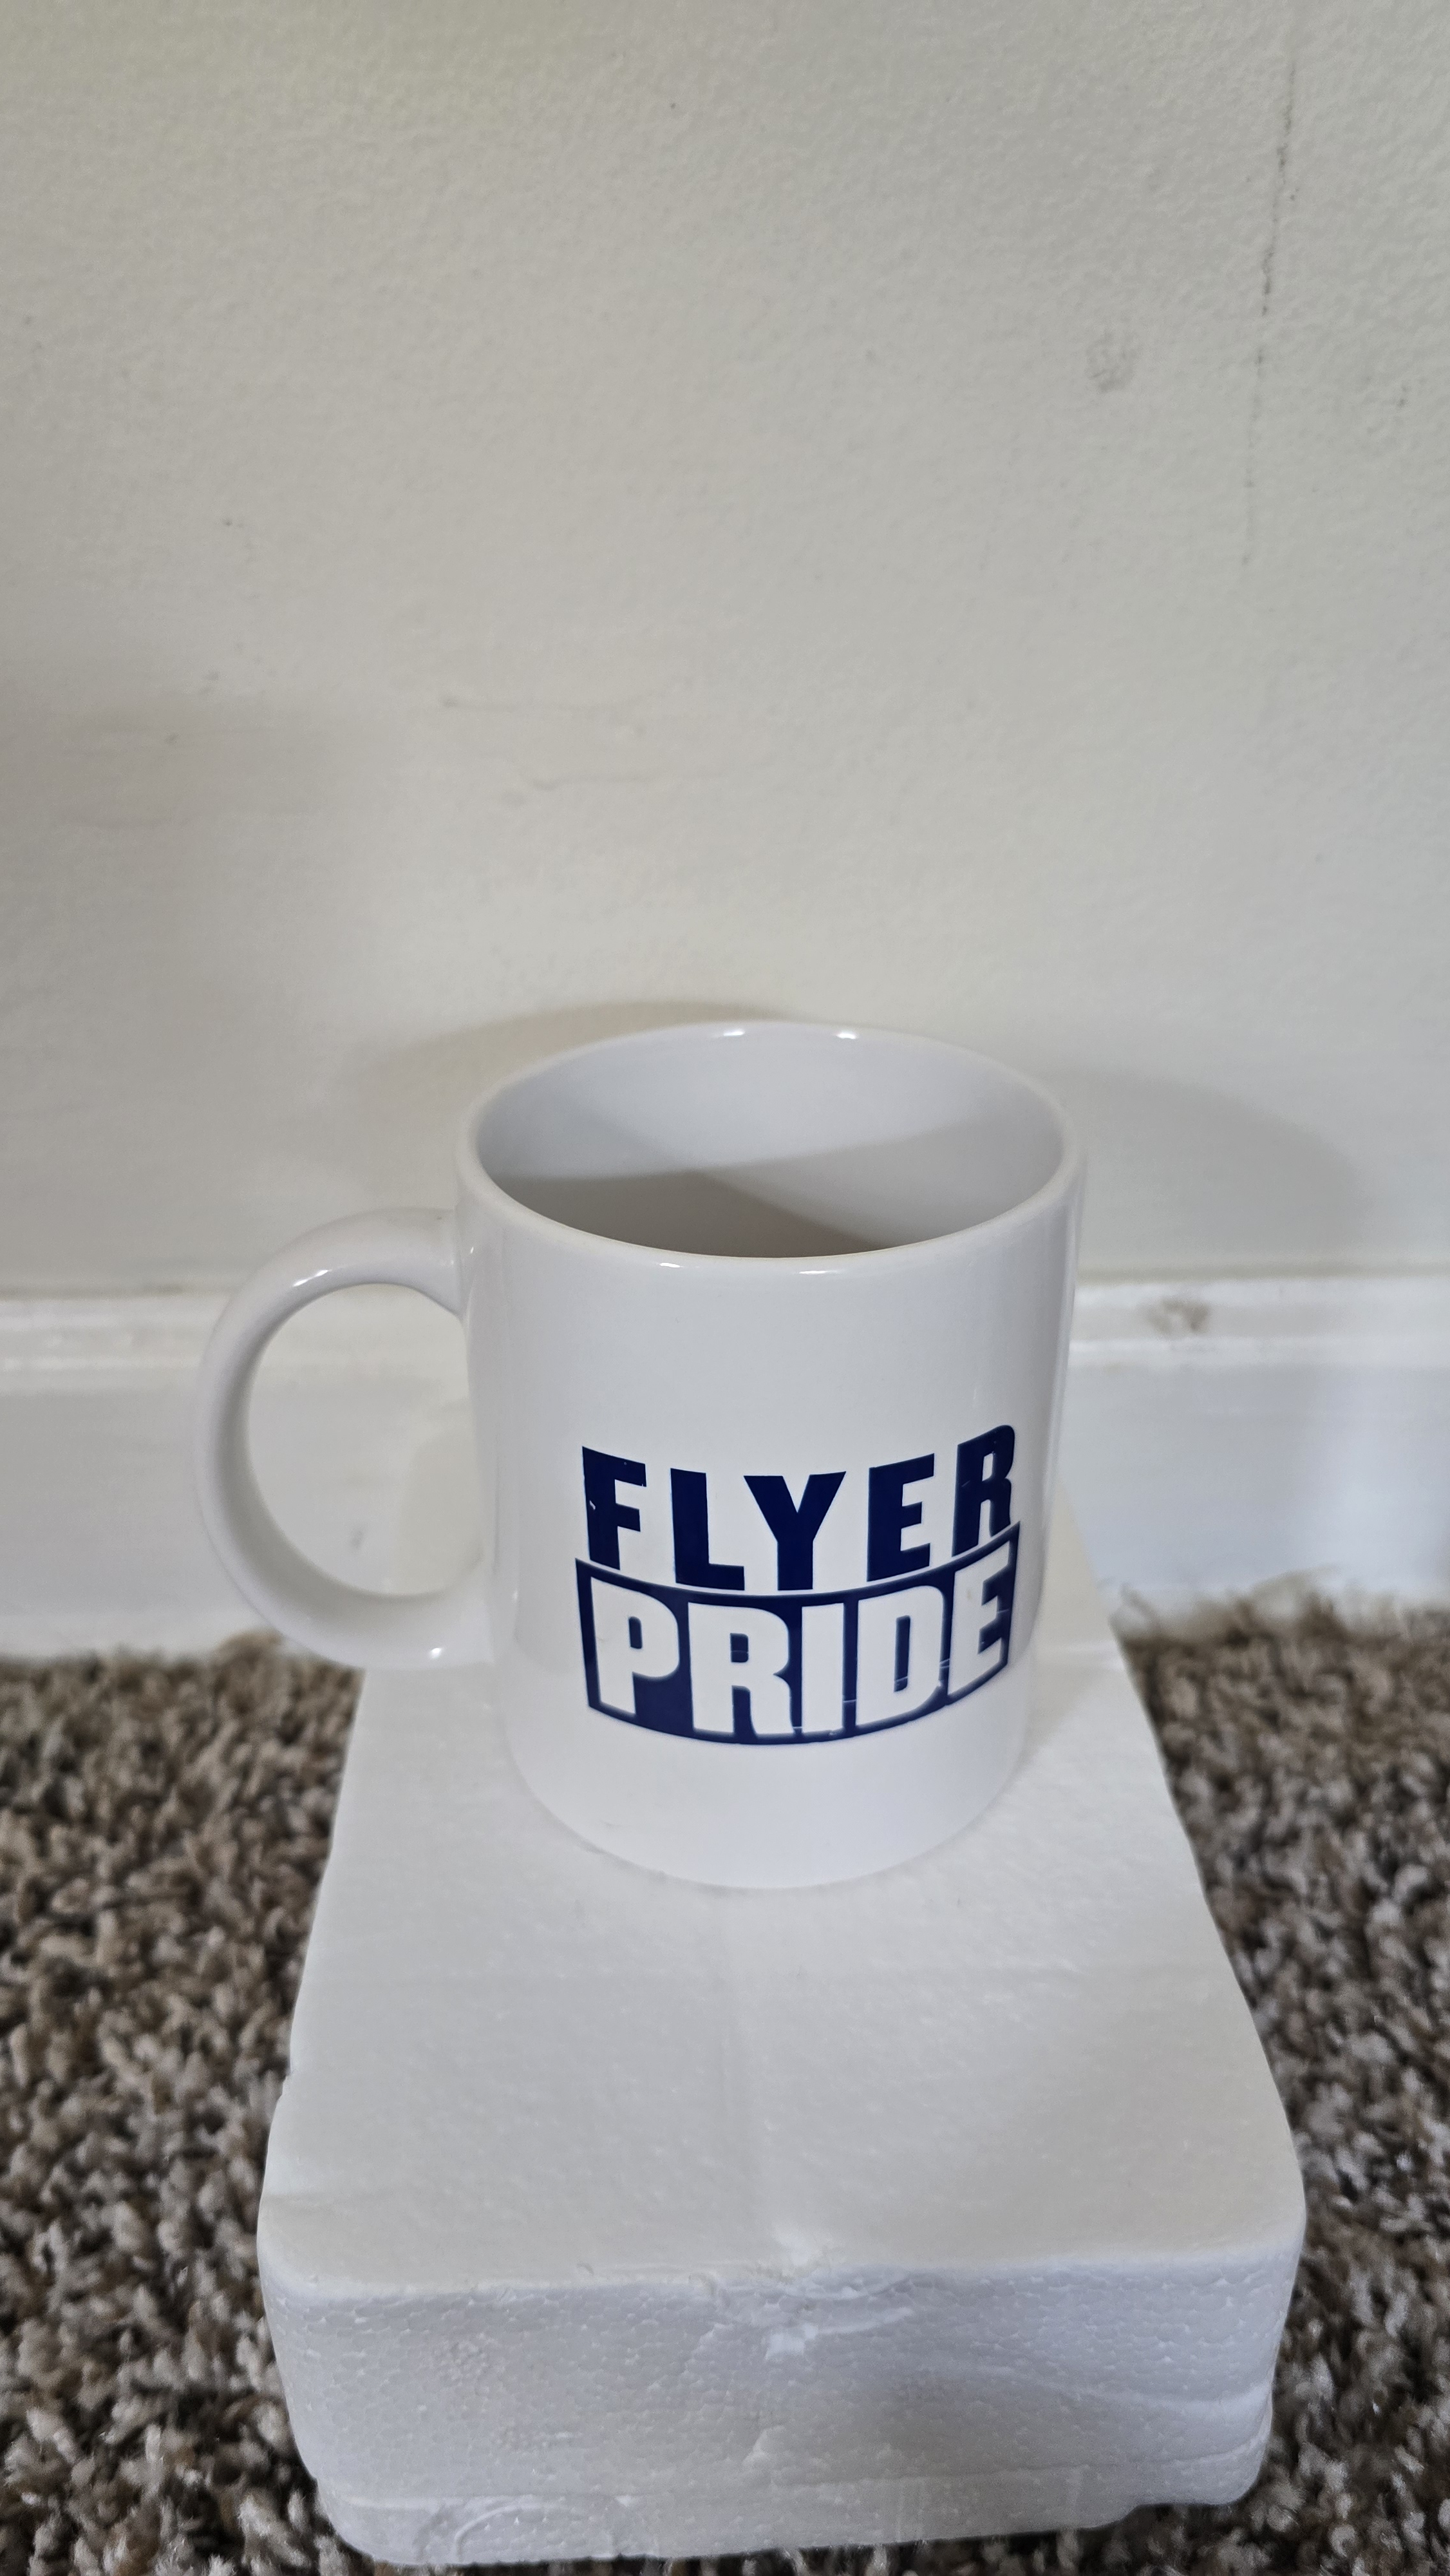mug: (120, 890, 1264, 1934)
